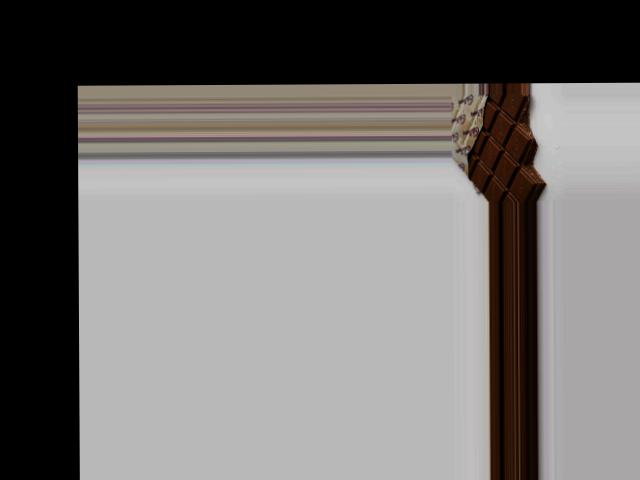chocolate: (452, 93, 537, 200)
